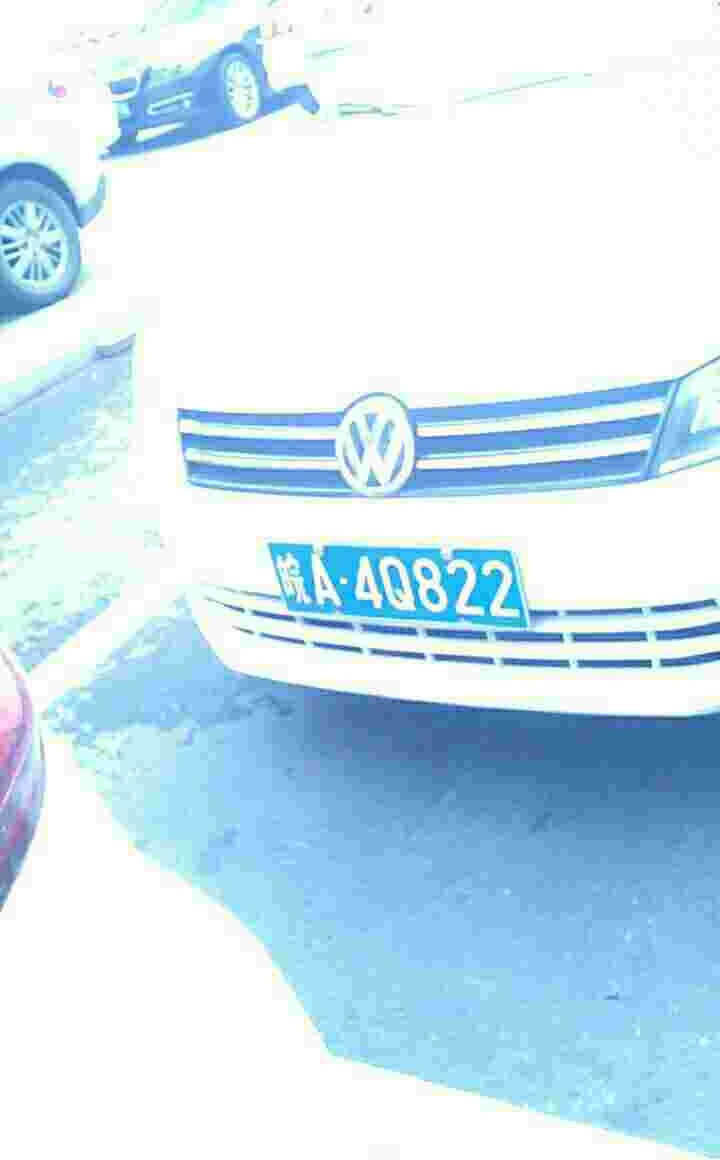plate: (259, 533, 536, 634)
